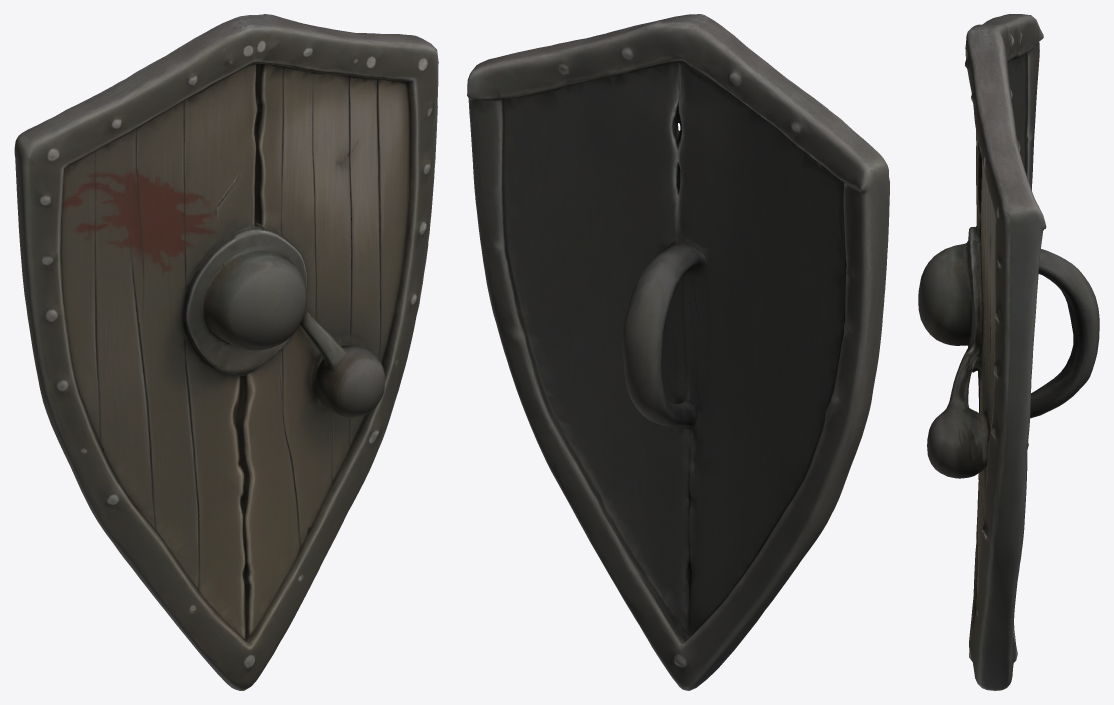
File: shield_broken.glb
3 views of the same model, side by side, from view 1: azimuth 30°, elevation 25°; view 2: azimuth 150°, elevation 25°; view 3: azimuth 270°, elevation 25° (orthographic).
Size of the model in its own units: 1.3 by 2 by 0.4982.
1 material, 1 textured.
